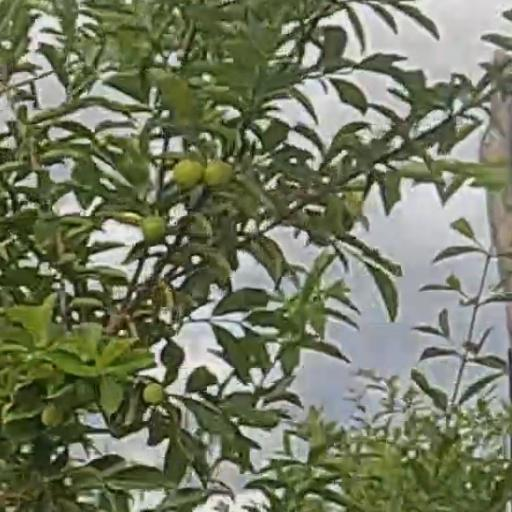acerola_verde: (174, 159, 200, 184), (207, 161, 231, 187), (142, 216, 164, 240)
